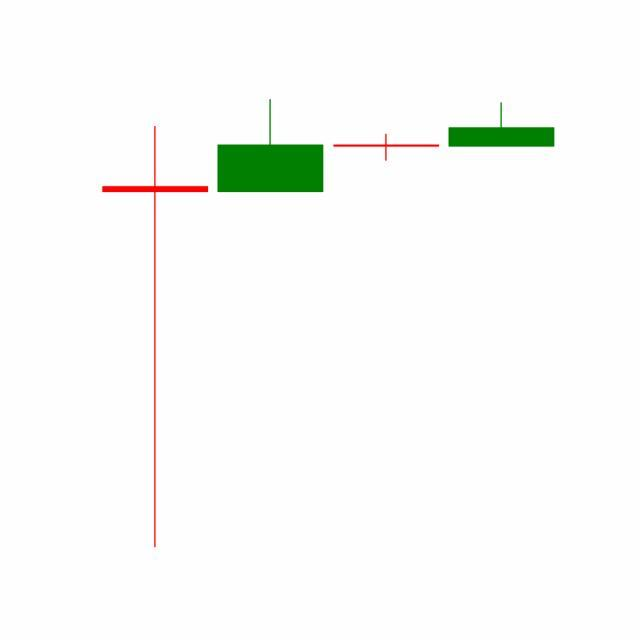Spinning Top: (329, 134, 445, 163)
